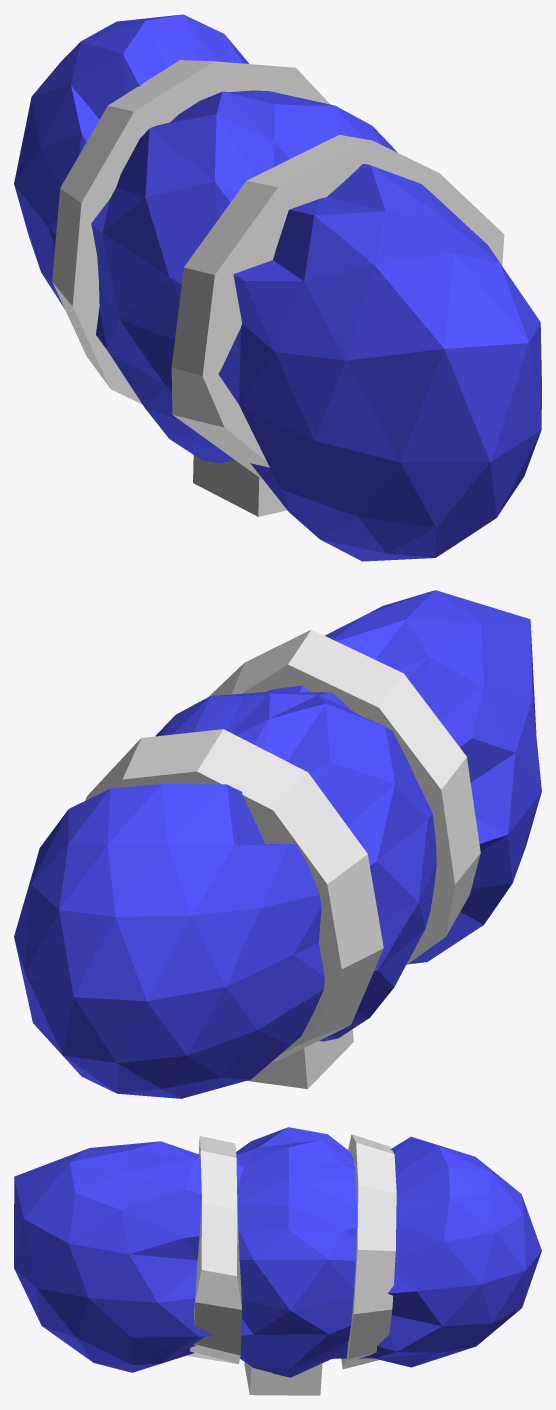
The model's file is dirigible.glb.
3 renders of one model, top to bottom at view 1: azimuth 30°, elevation 25°; view 2: azimuth 150°, elevation 25°; view 3: azimuth 270°, elevation 25°, orthographic. The views are drawn at different scales.
Parts seen in each view (by area): view 1: Icosphere.001, Cylinder, Cylinder.001, Cube; view 2: Icosphere.001, Cylinder.001, Cylinder, Cube; view 3: Icosphere.001, Cylinder, Cylinder.001, Cube.
Boxes of the visible parts, bbox=[...] form: Icosphere.001: bbox=[14, 14, 541, 561]; Cylinder: bbox=[171, 135, 504, 478]; Cylinder.001: bbox=[52, 60, 330, 404]; Cube: bbox=[193, 455, 286, 516]; Icosphere.001: bbox=[14, 590, 541, 1098]; Cylinder.001: bbox=[85, 729, 383, 1062]; Cylinder: bbox=[209, 629, 480, 964]; Cube: bbox=[246, 1029, 353, 1088]; Icosphere.001: bbox=[14, 1127, 541, 1377]; Cylinder: bbox=[187, 1136, 241, 1364]; Cylinder.001: bbox=[341, 1134, 396, 1369]; Cube: bbox=[244, 1362, 322, 1395].
Bounding box in the file's own units: 6.01 × 6.92 × 13.49.
